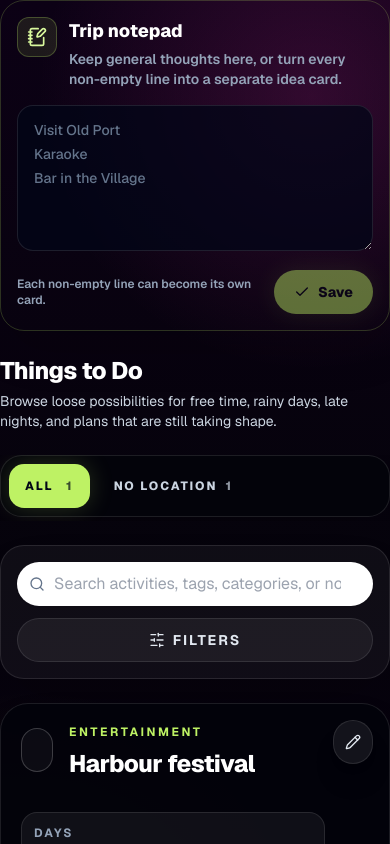
Test: trip idea editing › opens the edit form in the standard VAIVIA modal
Click the button named "Edit Harbour festival" at (353, 742), box 333,720 -> 373,764
(page scrolled)
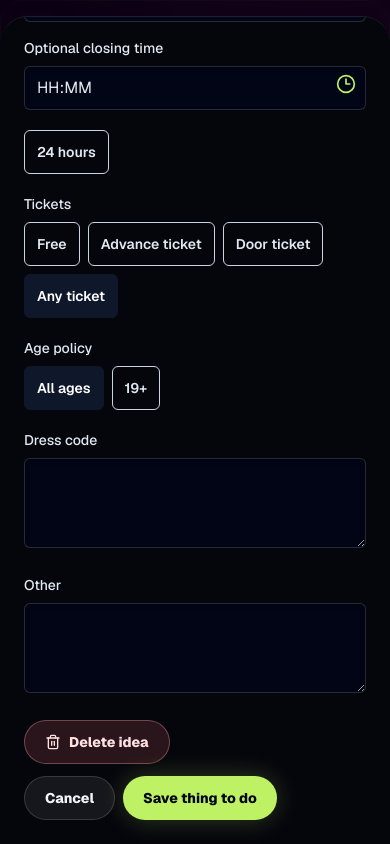
Check: the heading "Harbour festival" is shown, box 69,748 -> 255,779
Click the button "Cancel" at (70, 798), box 24,776 -> 115,820
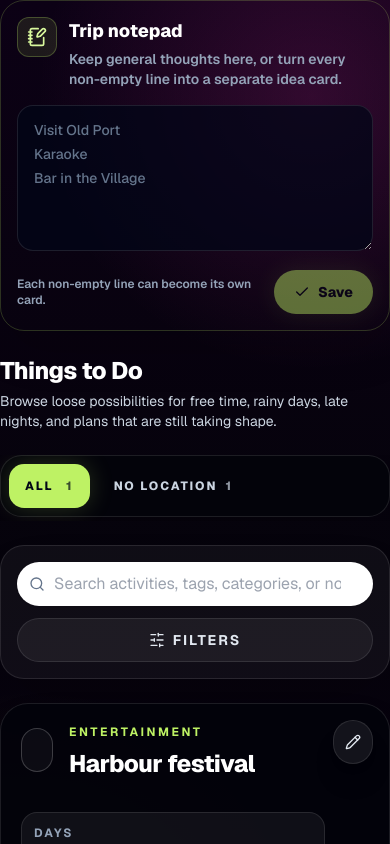
Check: the dialog is gone
